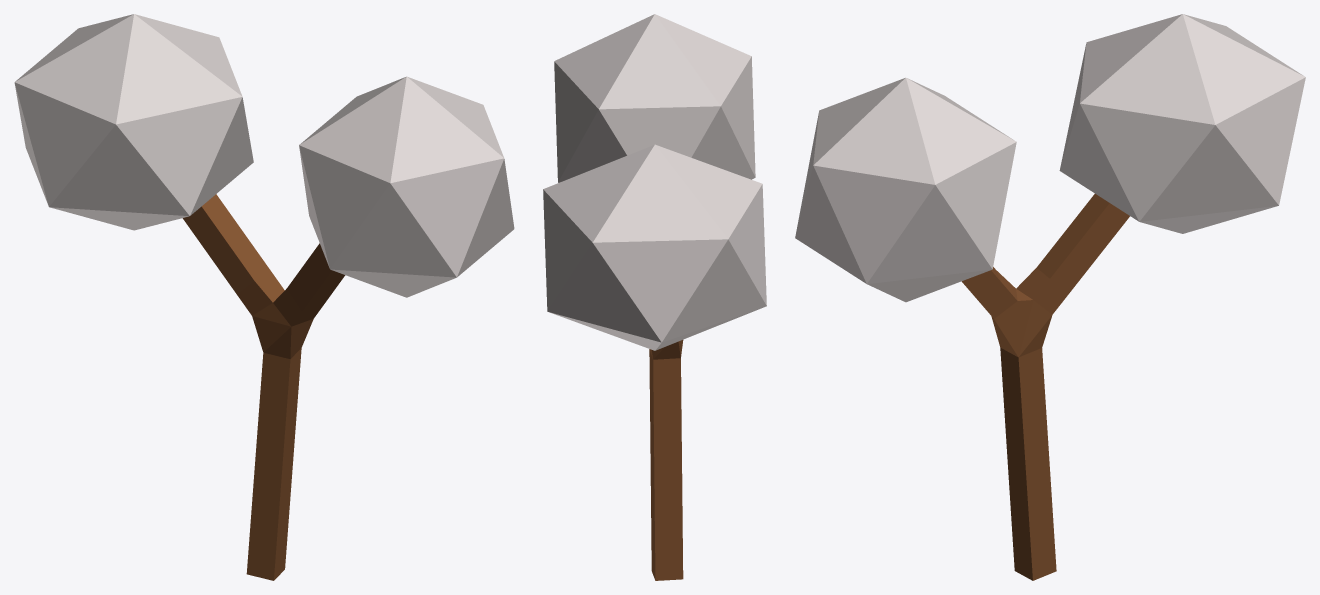
Rendered from Snow1.fbx.
3 views of the same model, side by side, from view 1: azimuth 30°, elevation 25°; view 2: azimuth 150°, elevation 25°; view 3: azimuth 270°, elevation 25° (orthographic). The views are drawn at different scales.
Parts seen in each view (by area): view 1: Icosphere.009; view 2: Icosphere.009; view 3: Icosphere.009.
Boxes of the visible parts, box(x1,y1,x2,y2) form: Icosphere.009: box(14, 14, 514, 580); Icosphere.009: box(543, 14, 766, 580); Icosphere.009: box(795, 14, 1305, 580).
Size of the model in its own units: 35.87 by 54.65 by 47.49.
